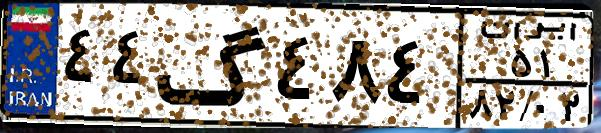0: (535, 70, 560, 125)
1: (537, 27, 568, 80)
2: (560, 70, 590, 125), (495, 70, 520, 125)
4: (270, 28, 330, 110), (385, 28, 445, 110), (57, 26, 110, 100), (110, 28, 156, 98)
5: (508, 27, 537, 80)
8: (330, 28, 385, 110), (470, 70, 495, 125)
گ: (156, 12, 270, 120)
